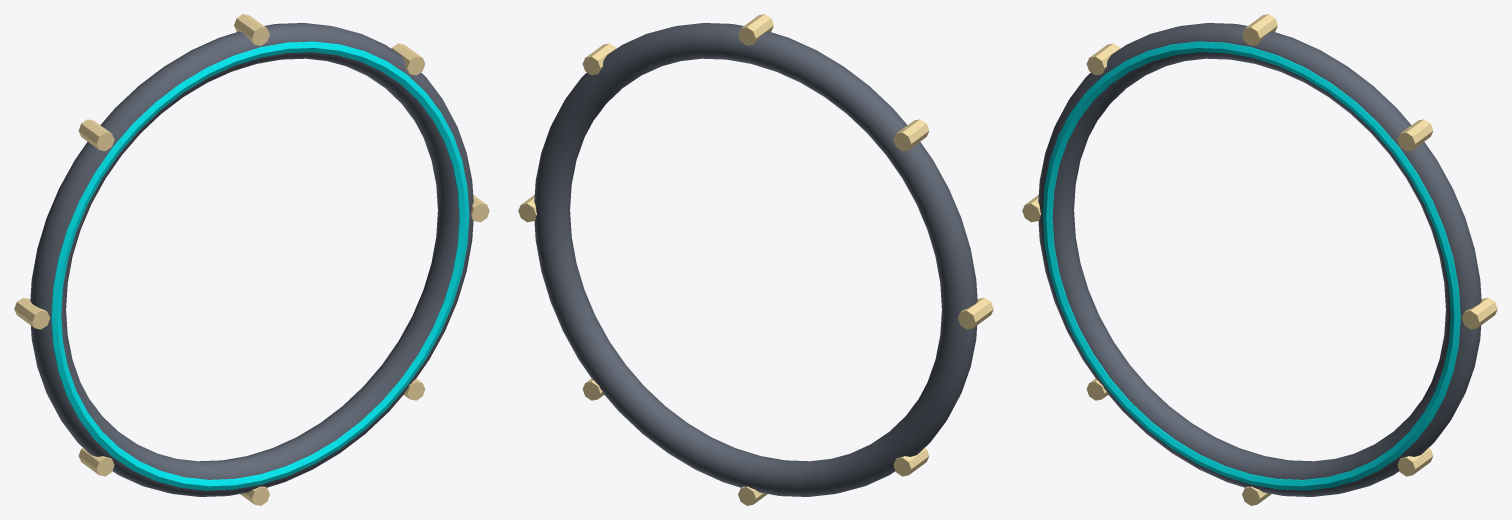
Rendered from battery_collar.glb.
3 views of the same model, side by side, from view 1: azimuth 30°, elevation 25°; view 2: azimuth 150°, elevation 25°; view 3: azimuth 330°, elevation 25° (orthographic).
Parts seen in each view (by area): view 1: Torus; view 2: Torus; view 3: Torus.
Boxes of the visible parts, bbox=[...] form: Torus: bbox=[14, 14, 489, 505]; Torus: bbox=[518, 14, 993, 505]; Torus: bbox=[1022, 14, 1497, 505].
Bounding box in the file's own units: 4.08 × 4.08 × 0.29.
